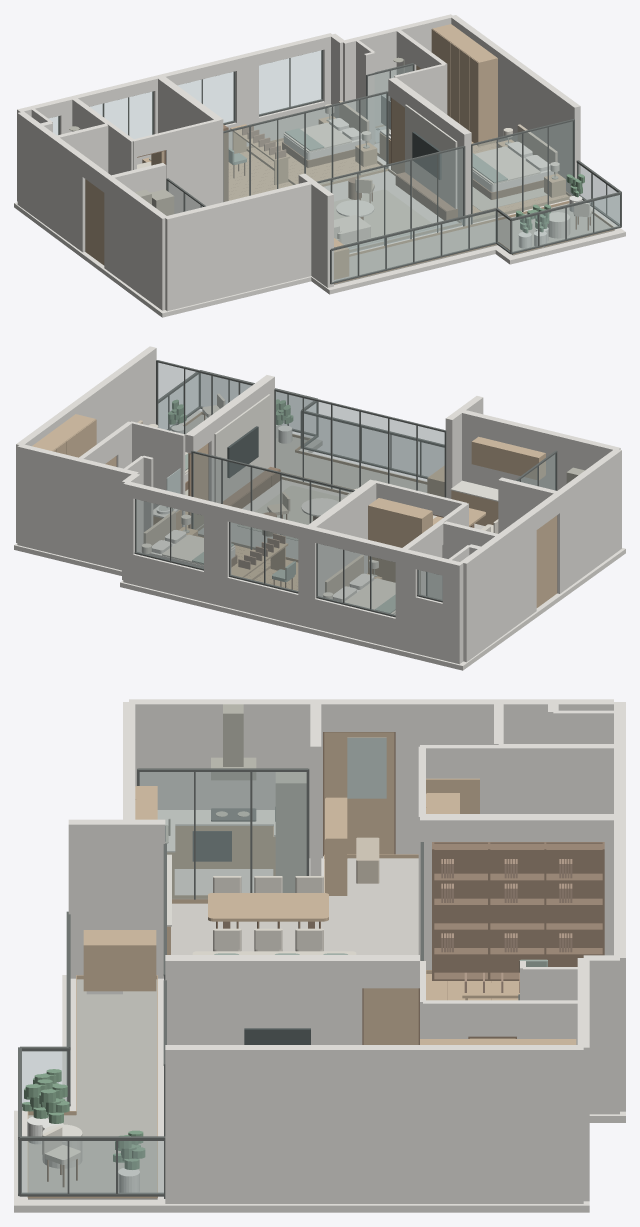
File: b-home-interior.glb
3 views of the same model, one above another, from view 1: azimuth 30°, elevation 25°; view 2: azimuth 150°, elevation 25°; view 3: azimuth 270°, elevation 25° (orthographic). The views are drawn at different scales.
Parts seen in each view (by area): view 1: 中厨南墙, 书房儿童房滑动玻璃隔断玻璃, 客厅阳台推拉门玻璃, 主卧阳台落地窗玻璃, 西外墙墙段.001, 东外墙, 西外墙墙段, 户型基础底板, 阳台玻璃栏板玻璃, 阳台完成地面, 老人房南墙墙段.001, 主卧北墙 (+65 smaller); view 2: 客厅阳台推拉门玻璃, 主卧北墙, 西外墙墙段.001, 书房儿童房滑动玻璃隔断玻璃, 西外墙墙段, 中厨南墙, 东外墙, 户型基础底板, 阳台玻璃栏板玻璃, 老人房窗玻璃, 主卧阳台落地窗玻璃, 儿童房窗玻璃 (+54 smaller); view 3: 东外墙, 主卧西墙墙段, 阳台完成地面, 中厨玻璃隔断玻璃, 西外墙墙段, 书房开放书柜背板, 阳台西侧, 老人房西墙墙段, 开放起居区完成地面, 西外墙墙段.001, 户型基础底板, 老人房东墙墙段 (+44 smaller).
Boxes of the visible parts, box(x1,y1,x2,y2) form: 中厨南墙: box(164, 181, 311, 311); 书房儿童房滑动玻璃隔断玻璃: box(224, 94, 386, 201); 客厅阳台推拉门玻璃: box(319, 148, 463, 252); 主卧阳台落地窗玻璃: box(473, 121, 572, 222); 西外墙墙段.001: box(17, 111, 88, 252); 东外墙: box(450, 15, 580, 195); 西外墙墙段: box(104, 175, 166, 310); 户型基础底板: box(14, 156, 625, 317); 阳台玻璃栏板玻璃: box(332, 211, 495, 281); 阳台完成地面: box(334, 203, 614, 284); 老人房南墙墙段.001: box(165, 119, 219, 213); 主卧北墙: box(342, 14, 453, 125); 客厅阳台推拉门玻璃: box(276, 391, 444, 496); 主卧北墙: box(17, 444, 138, 570); 西外墙墙段.001: box(460, 511, 536, 662); 书房儿童房滑动玻璃隔断玻璃: box(193, 453, 352, 559); 西外墙墙段: box(553, 449, 621, 593); 中厨南墙: box(462, 410, 620, 490); 东外墙: box(16, 346, 156, 542); 户型基础底板: box(14, 410, 625, 670); 阳台玻璃栏板玻璃: box(304, 414, 444, 476); 老人房窗玻璃: box(318, 544, 395, 614); 主卧阳台落地窗玻璃: box(158, 363, 251, 433); 儿童房窗玻璃: box(136, 499, 203, 568); 东外墙: box(165, 1045, 583, 1203); 主卧西墙墙段: box(165, 955, 362, 1044); 阳台完成地面: box(28, 979, 157, 1199); 中厨玻璃隔断玻璃: box(140, 772, 306, 898); 西外墙墙段: box(129, 699, 322, 858); 书房开放书柜背板: box(432, 842, 604, 972); 阳台西侧: box(68, 819, 165, 978); 老人房西墙墙段: box(420, 745, 613, 813); 开放起居区完成地面: box(171, 858, 418, 954); 西外墙墙段.001: box(395, 699, 613, 854); 户型基础底板: box(14, 856, 625, 1212); 老人房东墙墙段: box(420, 814, 613, 969).
Size of the model in its own units: 13.76 by 2.96 by 10.1.
